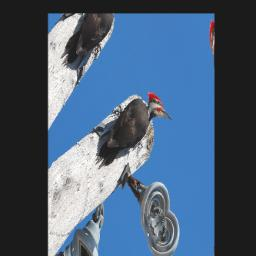Woodpecker: (86, 59, 174, 200)
